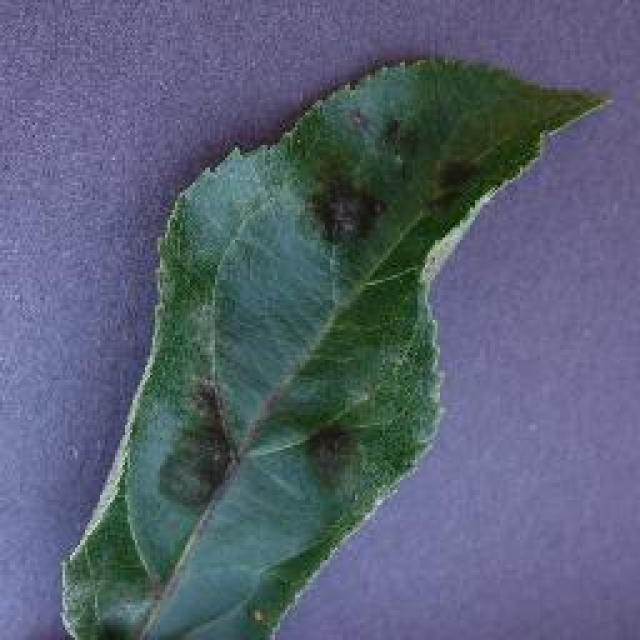apple scab disease: (55, 52, 610, 638)
